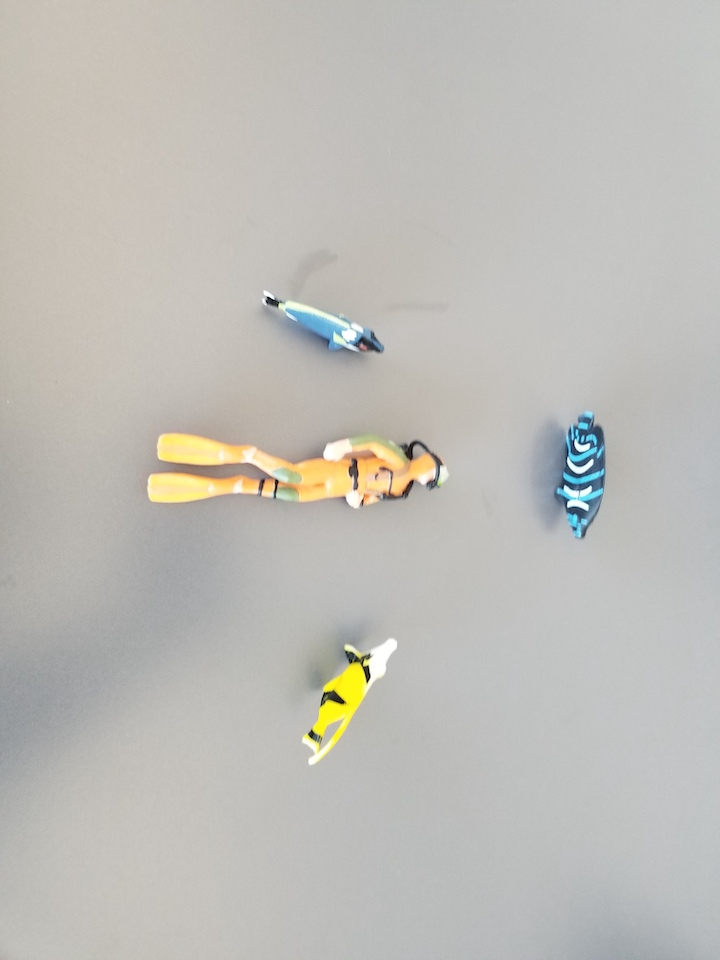danger: (304, 636, 399, 763)
diver: (146, 426, 451, 510)
fish: (259, 289, 389, 361), (554, 410, 611, 537)
